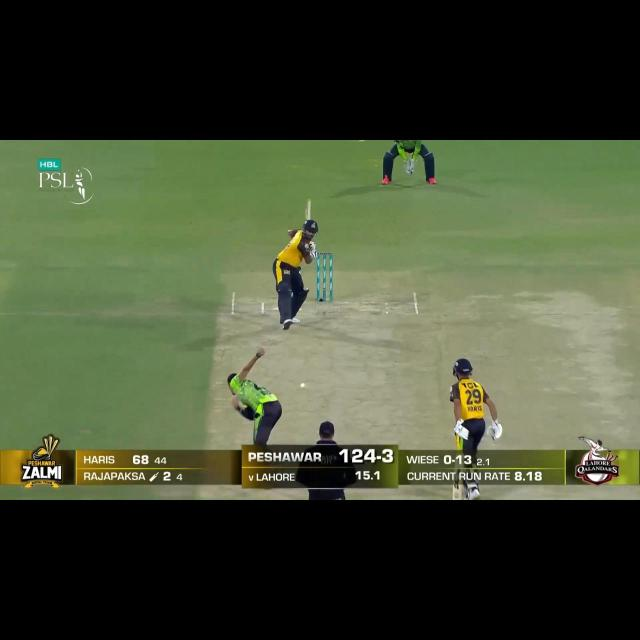bat: (450, 483, 464, 502), (305, 197, 312, 221)
toe: (303, 196, 313, 203), (450, 496, 464, 501)
